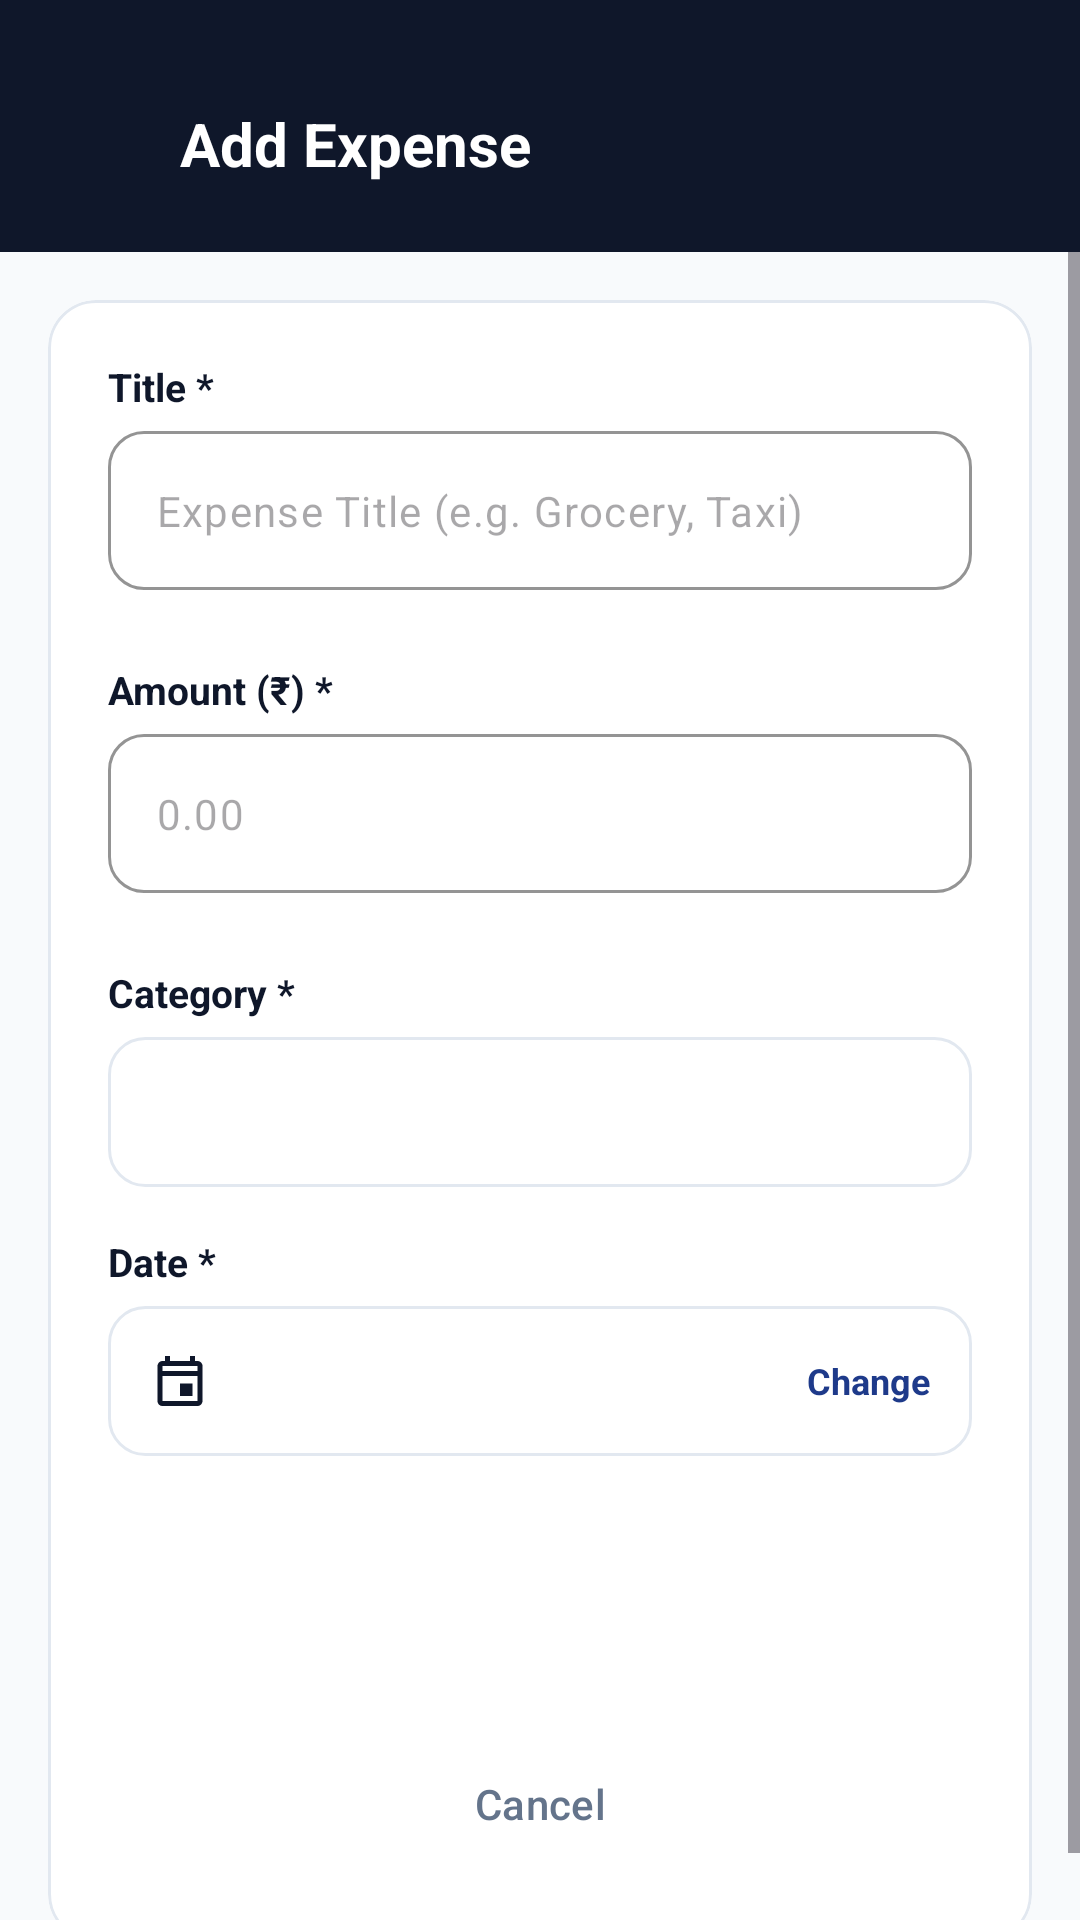

Where to tap for icons on this 1080*1920 app screen, as (x=x, y=y):
calendar: (x=180, y=1381)
